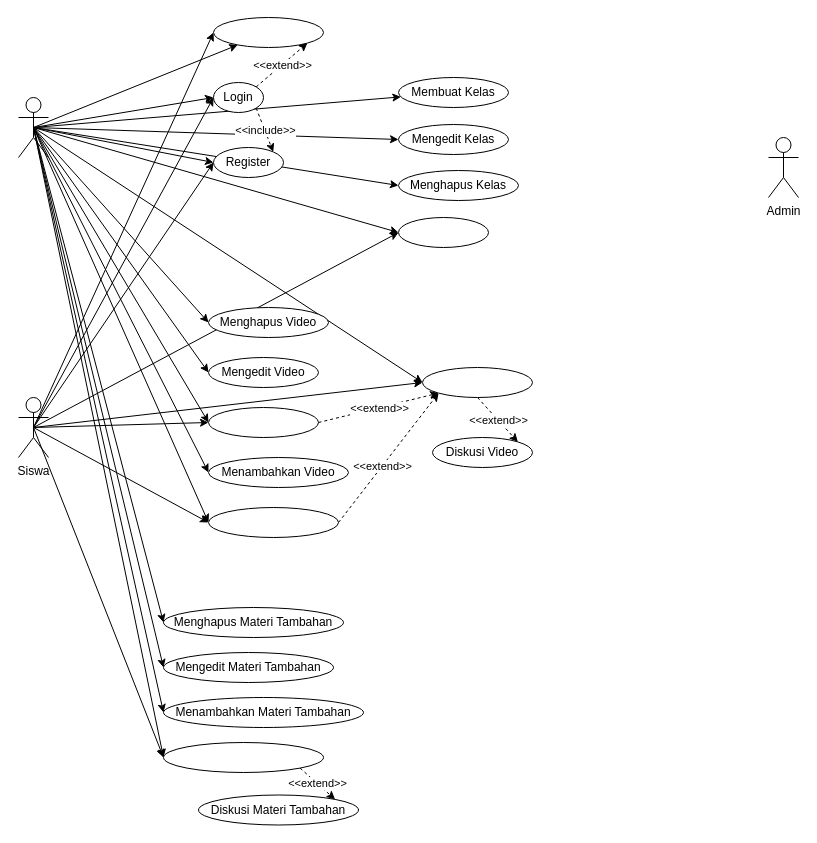
The diagram is 817 pixels wide and 843 high, and some of its shapes have lost their labels. Here are the shapes that lost their labels. From the top down, the box of each, then its label:
(212, 16, 324, 48): Lupa Password
(18, 96, 48, 158): Guru
(398, 216, 488, 248): Masuk Kelas
(422, 366, 532, 398): Menonton Video
(208, 406, 318, 438): Pencarian Video
(208, 506, 338, 538): Rekomendasi Video
(162, 742, 324, 772): Melihat Materi Tambahan
